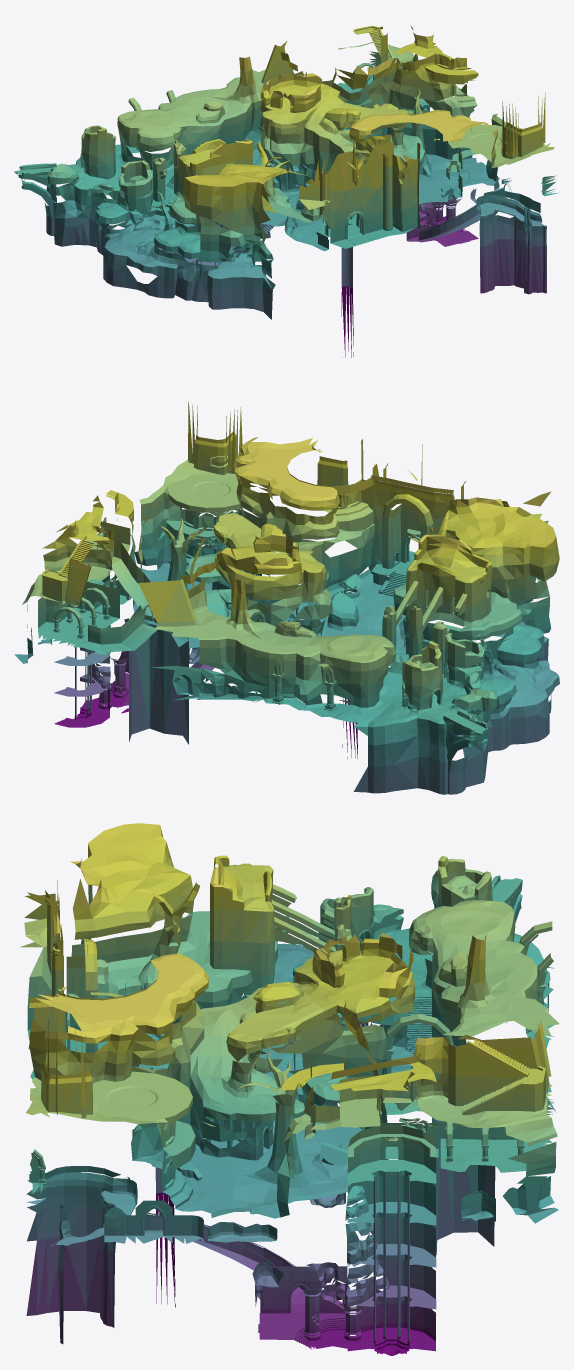
The model's file is 110_GR_dungeon.glb.
The picture shows the model from 3 angles, top to bottom: view 1: azimuth 30°, elevation 25°; view 2: azimuth 150°, elevation 25°; view 3: azimuth 270°, elevation 25°; orthographic projection. The views are drawn at different scales.
Parts seen in each view (by area): view 1: walls, floors; view 2: walls, floors; view 3: walls, floors.
Boxes of the visible parts, x1,y1,x2,y2 form: walls: (15,25,555,357); floors: (14,25,558,289); walls: (27,401,559,794); floors: (14,433,558,754); walls: (20,826,556,1349); floors: (24,823,559,1355).
Bounding box in the file's own units: 163 × 102 × 123.
